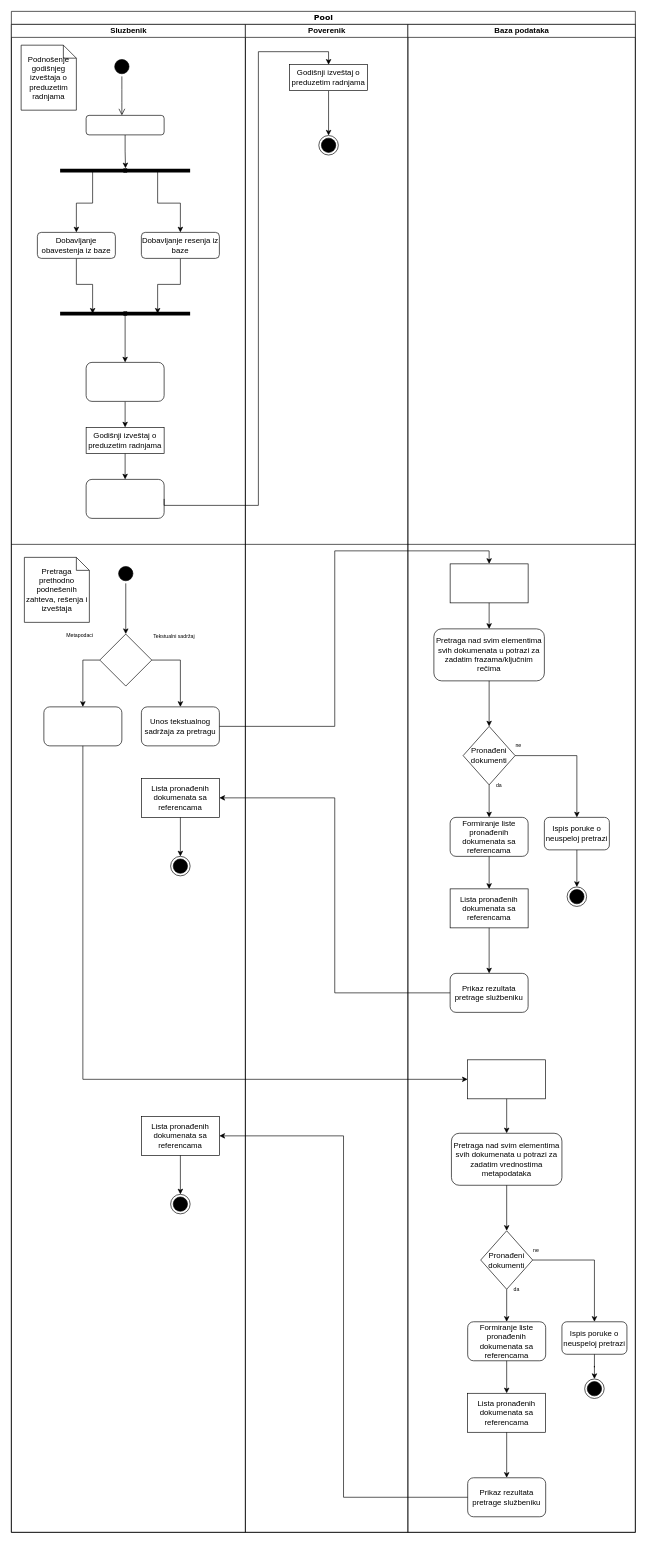
The diagram is 647 pixels wide and 1544 high, and some of its shapes have lost their labels. The shapes that lost their labels are listed below. From the top down, each one's centre as x and y in pixels, then its label:
the point at 124,125: Prijava na sistem
the point at 124,381: Kreiranje godišnjeg izveštaja o preduzetim radnjama
the point at 124,498: Slanje godišnjeg izveštaja o preduzetim radnjama povereniku
the point at 488,583: Fraze/ključne reči za pretragu
the point at 125,659: Parametar pretrage
the point at 82,726: Unos vrednosti metapodataka za pretragu
the point at 506,1079: Vrednosti metapodataka za pretragu
